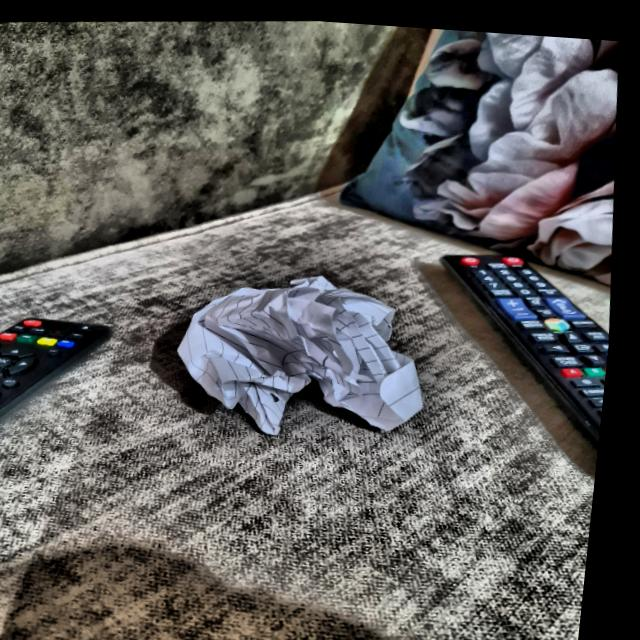Paper: (165, 258, 446, 450)
